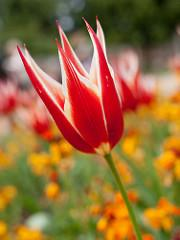tulip: (19, 15, 128, 157)
